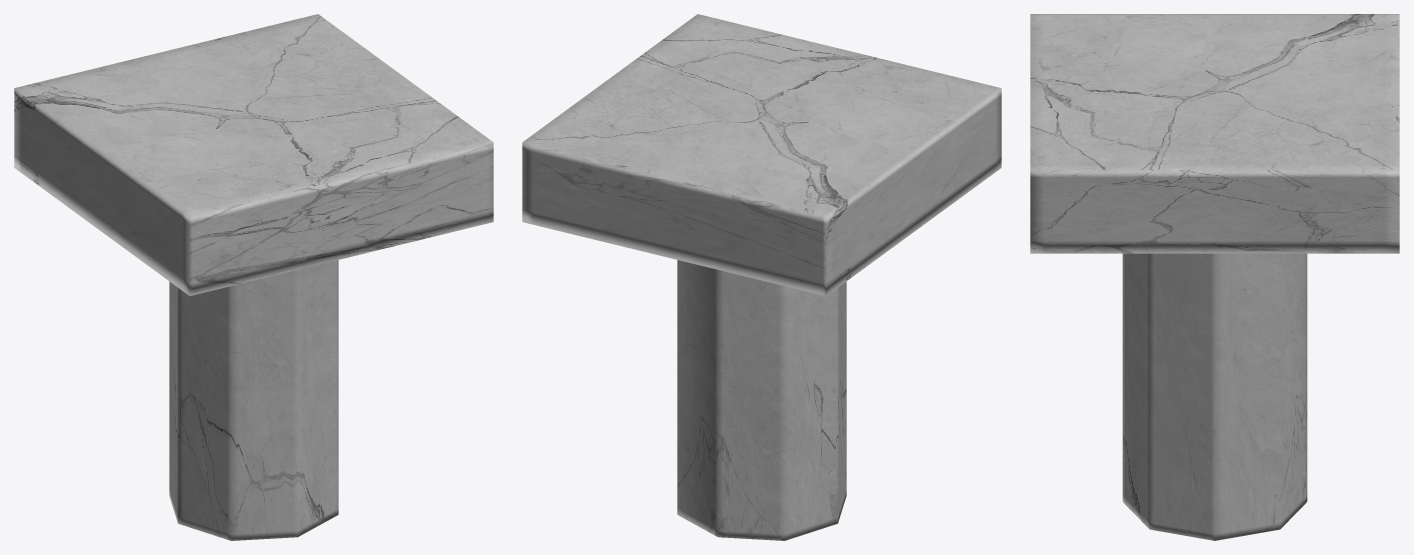
Rendered from Marble Model Pedestal.glb.
3 renders of one model, left to right at view 1: azimuth 30°, elevation 25°; view 2: azimuth 150°, elevation 25°; view 3: azimuth 270°, elevation 25°, orthographic. The views are drawn at different scales.
Parts seen in each view (by area): view 1: Cube.007, Cylinder; view 2: Cube.007, Cylinder; view 3: Cube.007, Cylinder.
Boxes of the visible parts, box(x1,y1,x2,y2) form: Cube.007: box(14, 14, 493, 295); Cylinder: box(169, 260, 338, 540); Cube.007: box(522, 14, 1001, 295); Cylinder: box(677, 260, 846, 540); Cube.007: box(1030, 14, 1399, 253); Cylinder: box(1122, 253, 1307, 540).
Size of the model in its own units: 10 by 12.25 by 10.
Materials: 1 (1 with a texture image).
